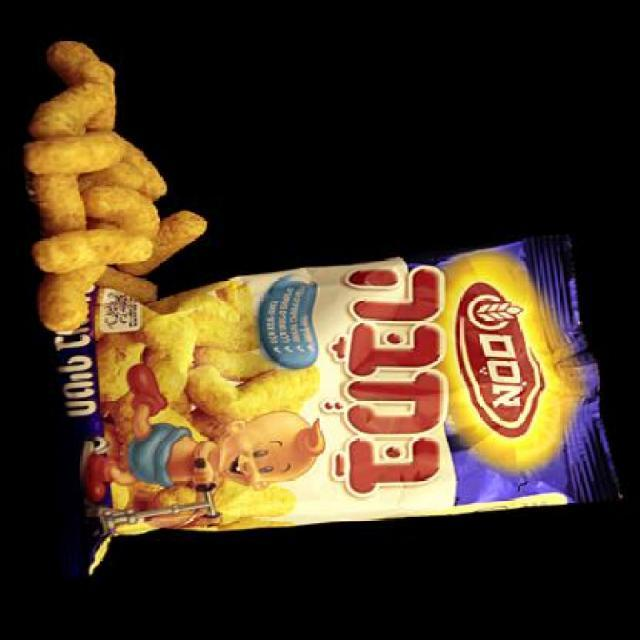Chips: (43, 224, 599, 622)
Chips packaged: (5, 32, 224, 348)
